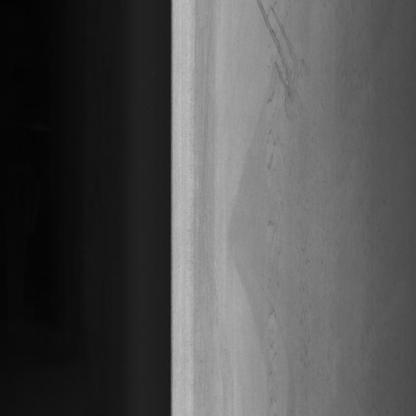silk_spot: (265, 161, 330, 406)
water_spot: (250, 1, 316, 132)
